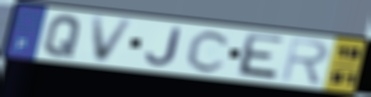C: (184, 29, 234, 74)
E: (233, 32, 287, 83)
J: (144, 26, 184, 68)
Q: (41, 14, 85, 59)
R: (279, 36, 331, 86)
V: (90, 15, 138, 64)
